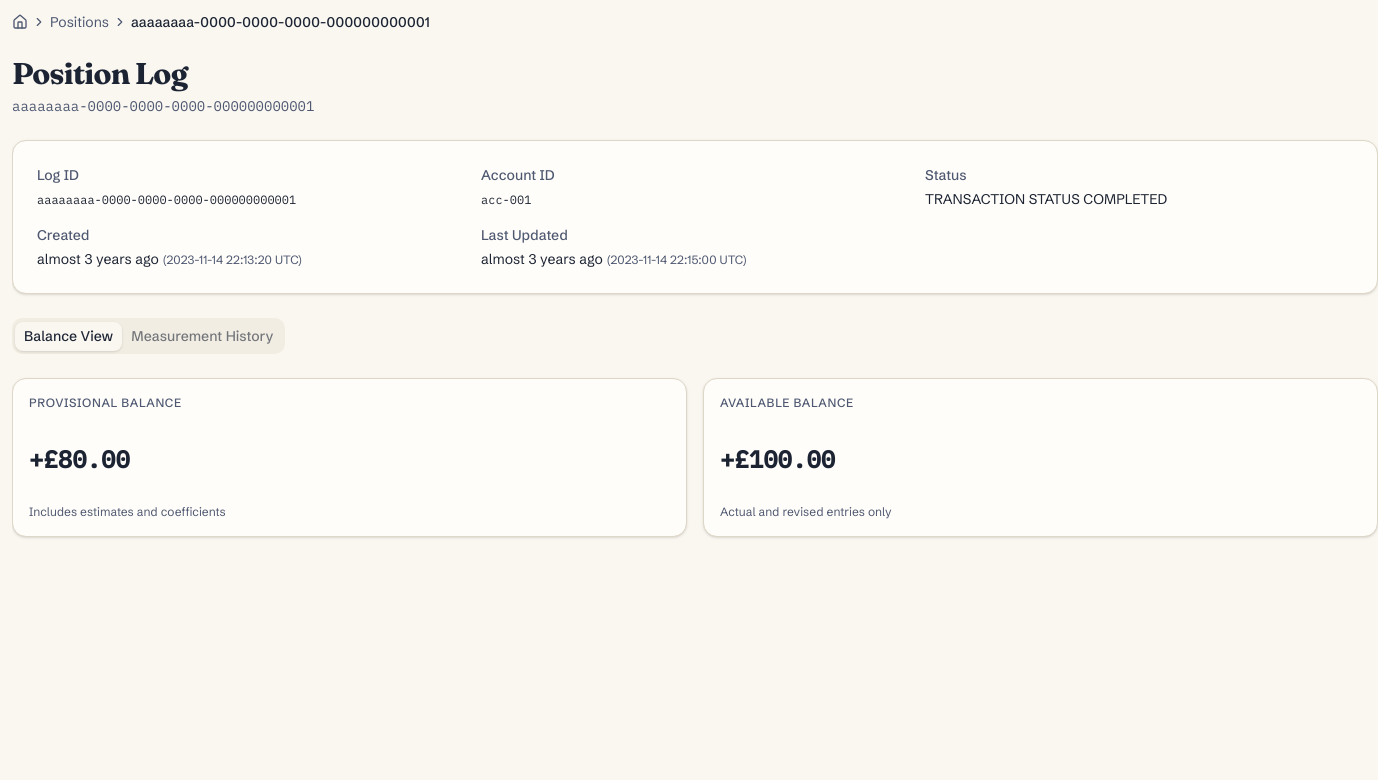
Test case: PositionDetailPage › shows measurement history table after switching tabs
Click the tab "Measurement History" at (202, 336), box [122,322,282,350]
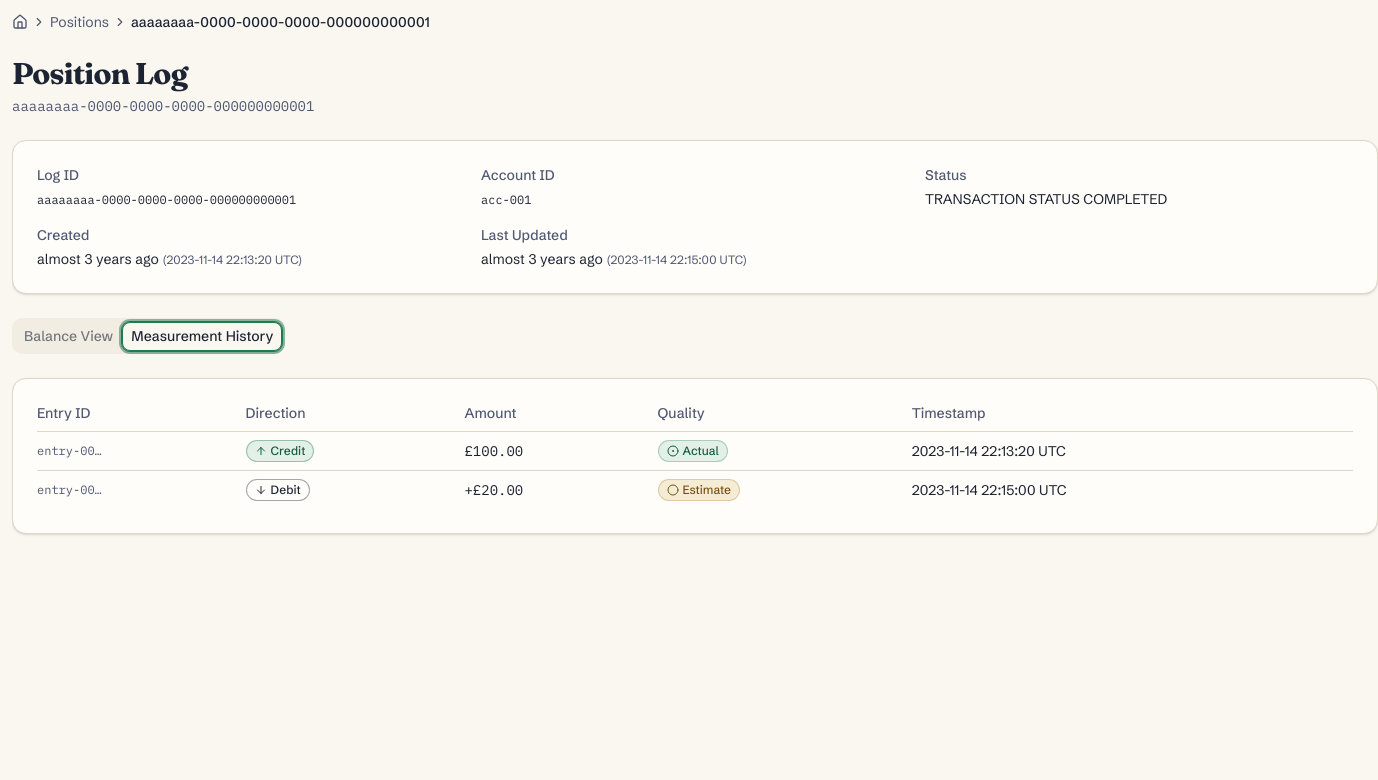
Expected: the element with test id "measurement-history-table" is shown, [37,403,1353,509]
